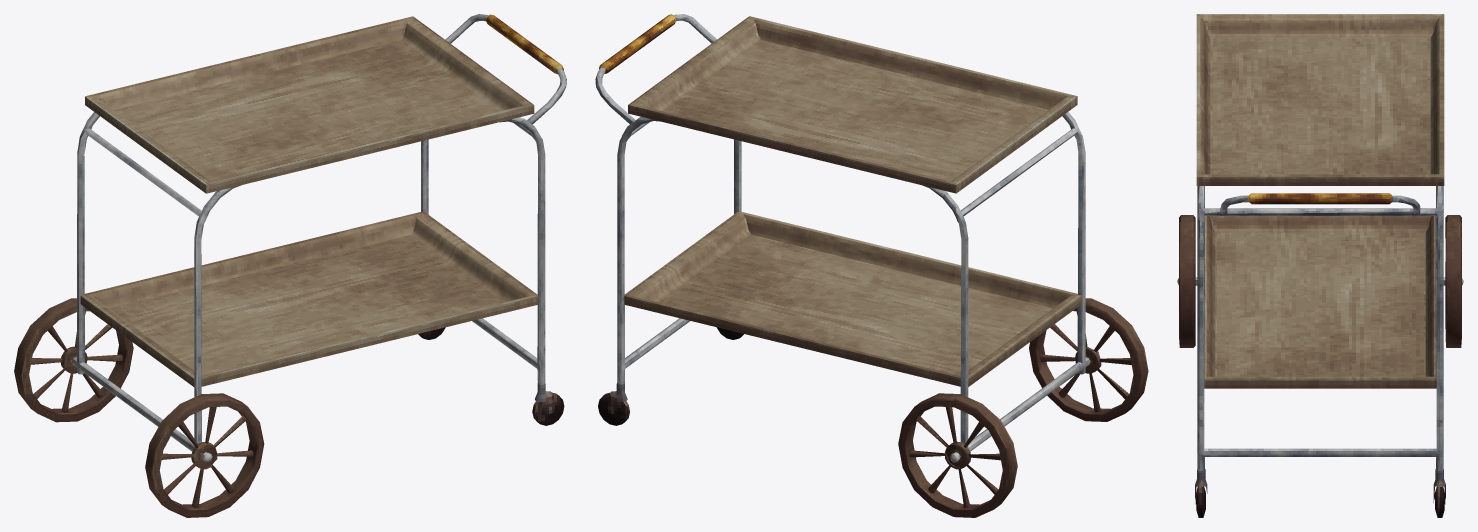
Rendered from wagon_trolley.glb.
3 views of the same model, side by side, from view 1: azimuth 30°, elevation 25°; view 2: azimuth 150°, elevation 25°; view 3: azimuth 270°, elevation 25° (orthographic).
Parts seen in each view (by area): view 1: mesh; view 2: mesh; view 3: mesh.
Boxes of the visible parts, <box> form: mesh: <box>14,14,566,517</box>; mesh: <box>595,14,1148,517</box>; mesh: <box>1177,14,1463,517</box>.
Size of the model in its own units: 1.12 by 0.8 by 0.6109.
1 material, 1 textured.
